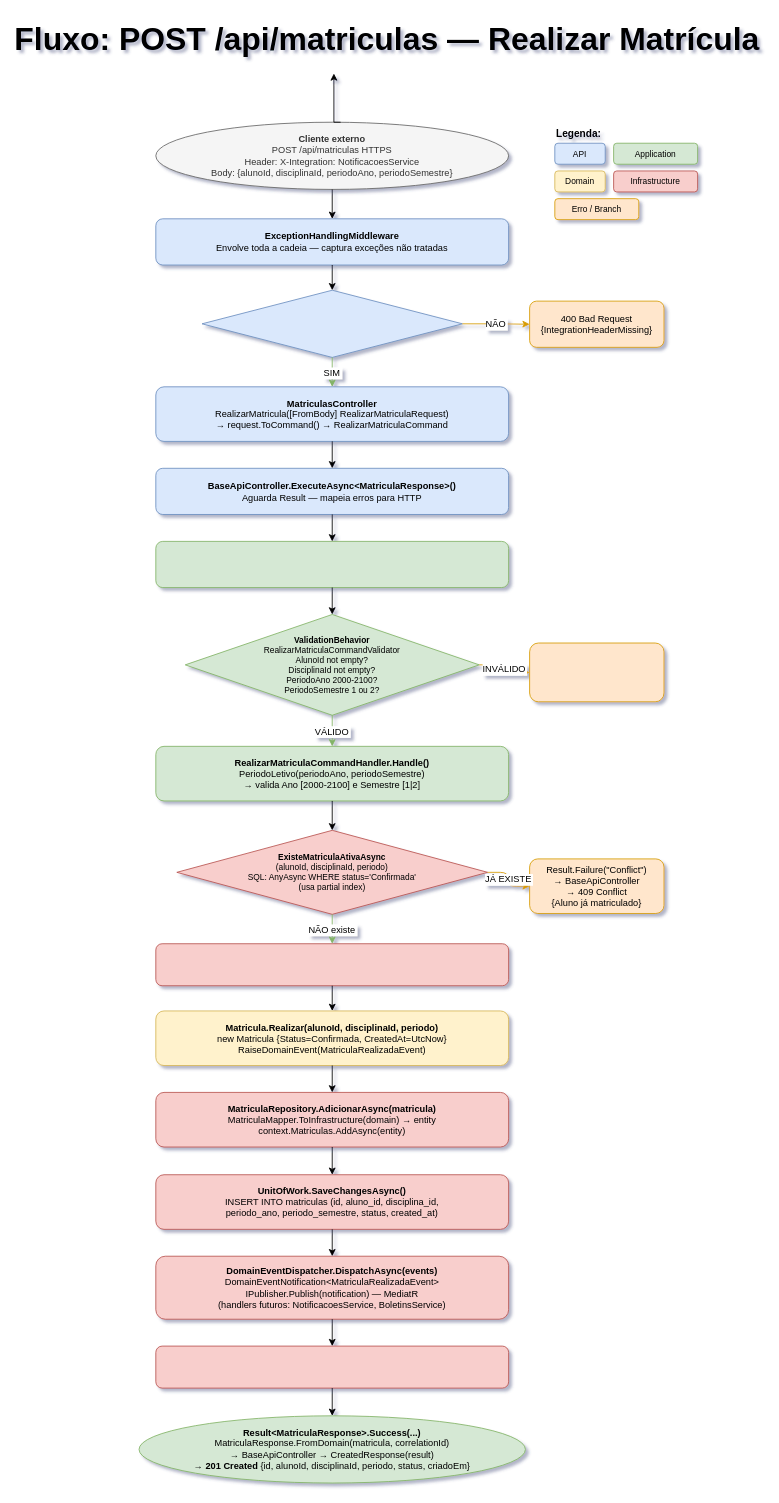
Some shapes in this 779 by 1503 pixel diagram are drawn without their labels. Each missing label, with the box of its shape:
DomainException [PropertyName] message → Middleware captura → 422 Unprocessable: (529, 642, 664, 702)
IMediator.Send(RealizarMatriculaCommand) MediatR resolve pipeline e handler: (155, 541, 509, 588)
UnitOfWork.BeginTransactionAsync() BEGIN TRANSACTION no PostgreSQL: (155, 943, 509, 986)
UnitOfWork.CommitAsync() COMMIT — transação confirmada: (155, 1345, 509, 1388)
X-Integration presente e valor autorizado?: (201, 289, 462, 357)
